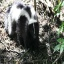skunk: (5, 7, 38, 47)
